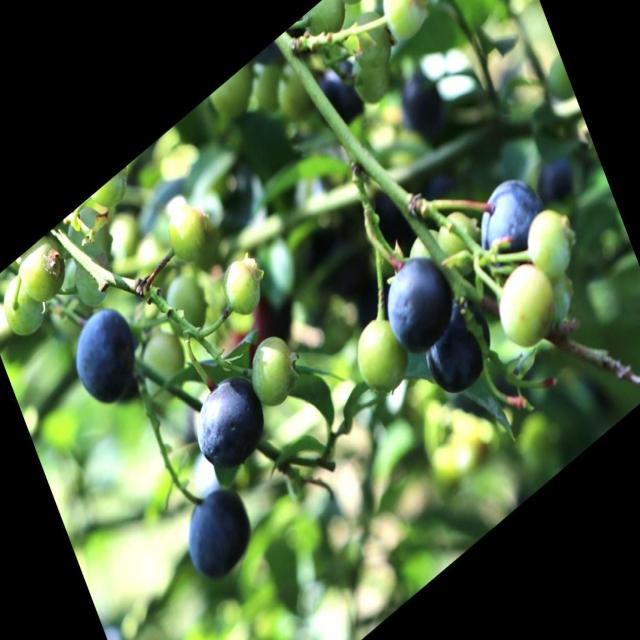blueberry: (61, 290, 148, 422), (376, 237, 463, 365), (186, 359, 274, 484), (468, 158, 555, 282), (416, 284, 502, 408), (178, 470, 261, 593), (305, 45, 373, 142)
blueberry-unripe: (487, 248, 563, 362), (346, 305, 413, 410), (131, 321, 195, 412), (520, 192, 581, 287), (429, 195, 488, 289), (241, 326, 302, 416), (158, 264, 216, 352), (158, 188, 216, 269), (16, 231, 72, 312), (215, 242, 270, 324), (0, 265, 49, 350), (376, 0, 431, 45)
